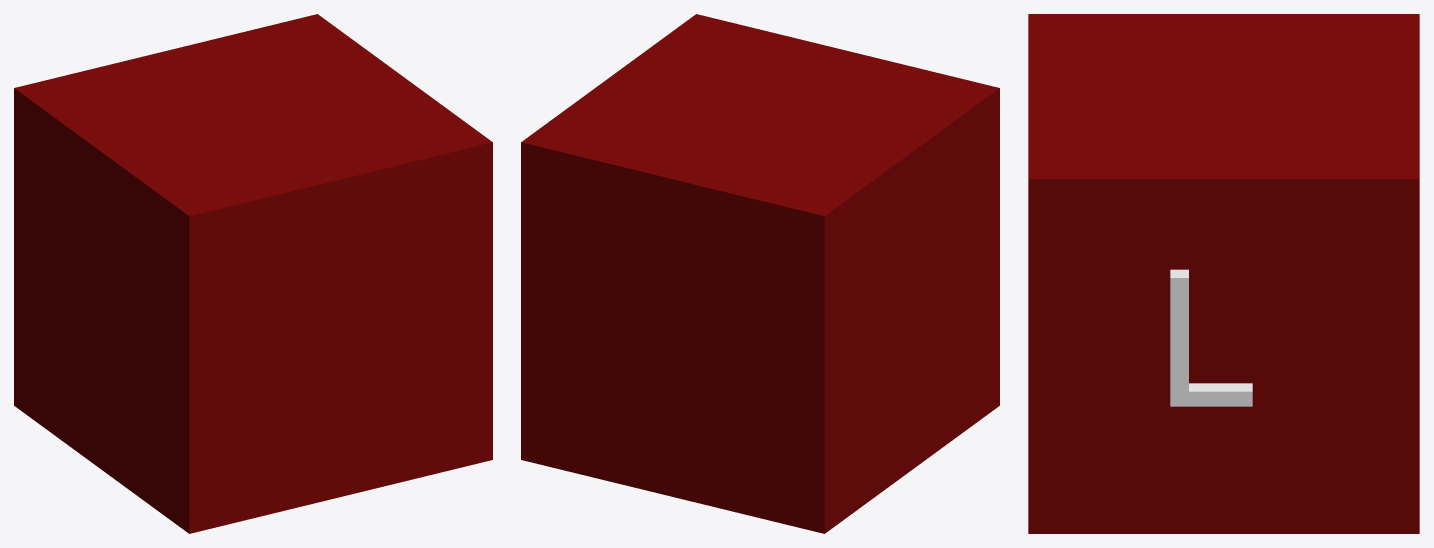
3 renders of one model, left to right at view 1: azimuth 30°, elevation 25°; view 2: azimuth 150°, elevation 25°; view 3: azimuth 270°, elevation 25°, orthographic. The views are drawn at different scales.
Parts seen in each view (by area): view 1: SketchUp; view 2: SketchUp; view 3: SketchUp, L.
Part boxes in pixels (<box>): SketchUp: <box>14,14,492,533</box>; SketchUp: <box>521,14,999,533</box>; SketchUp: <box>1028,14,1419,533</box>; L: <box>1170,269,1252,406</box>.
Size of the model in its own units: 21 by 20 by 20.
